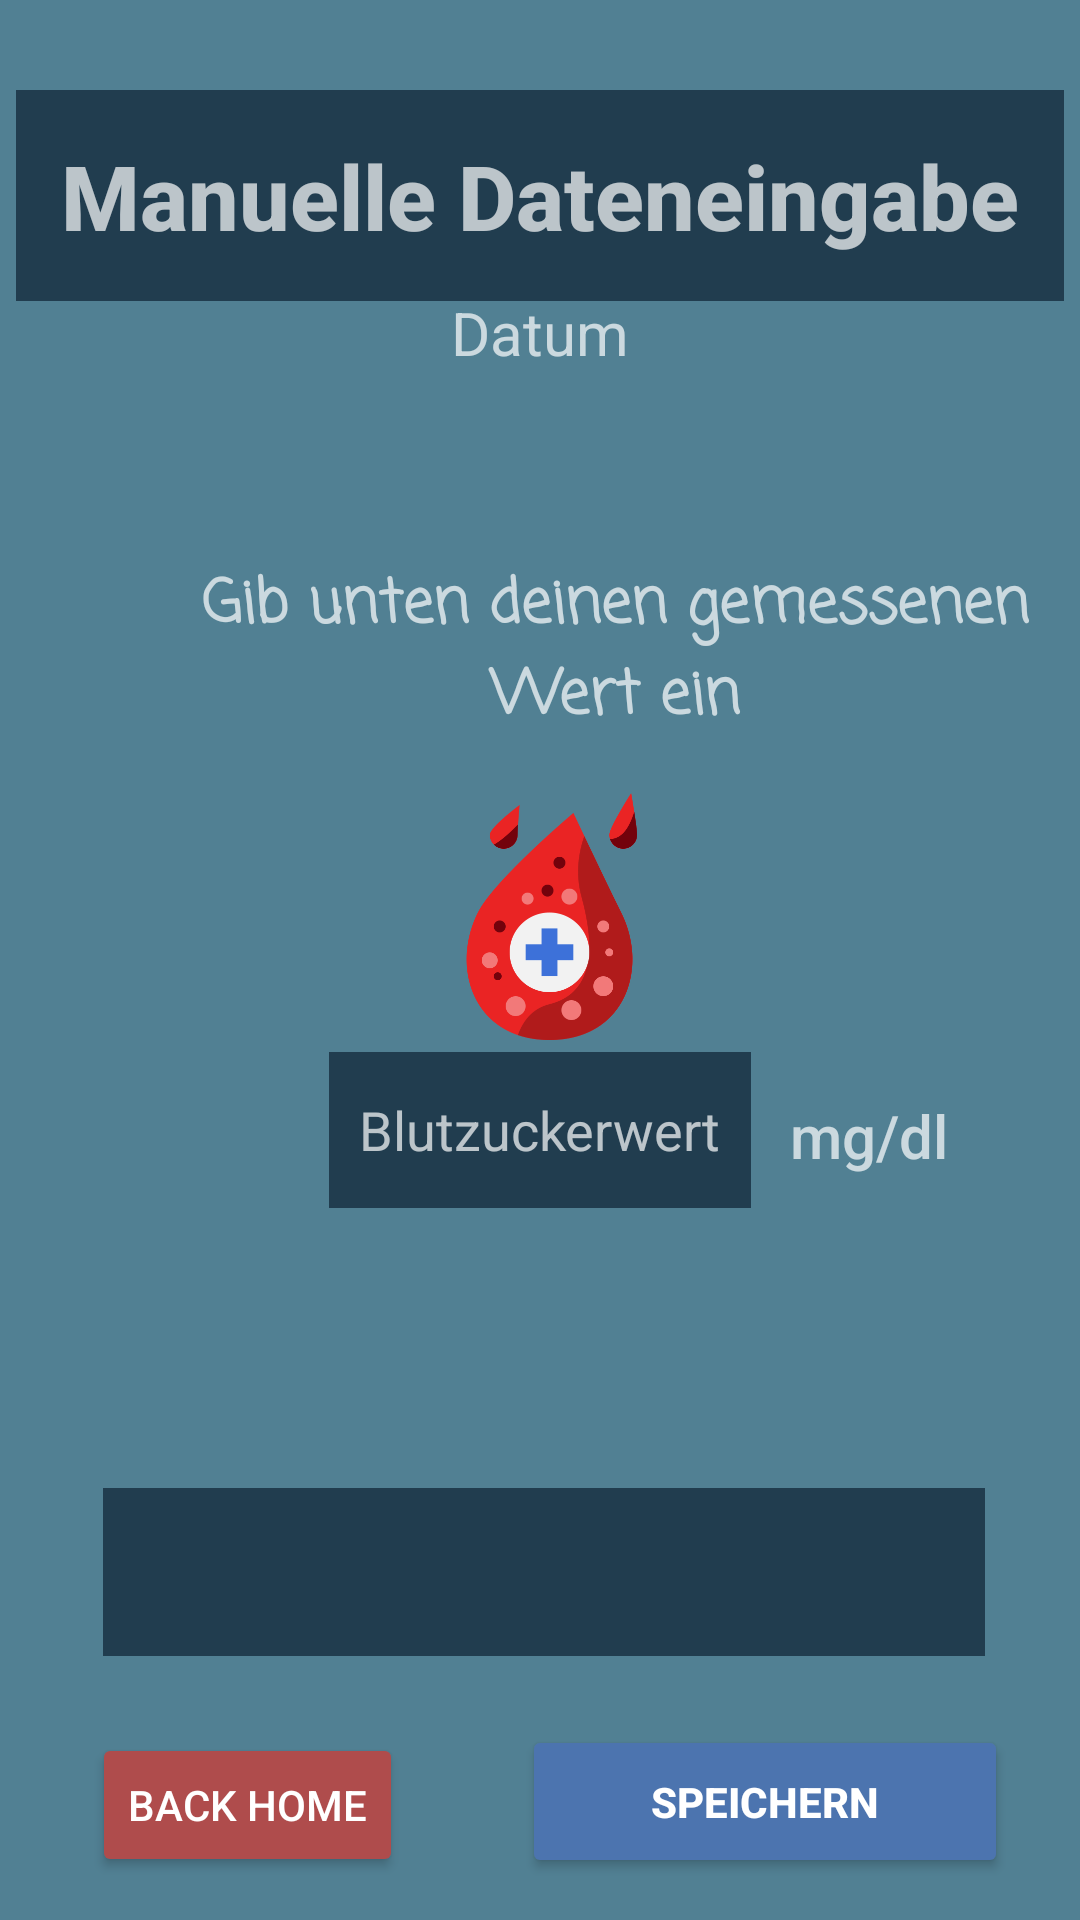

Named icons in this screenshot (1080×1920) and their bounding boxes, (x1, y1, x2, y2):
Icon eines Bluttropfens: (466, 794, 637, 1040)
